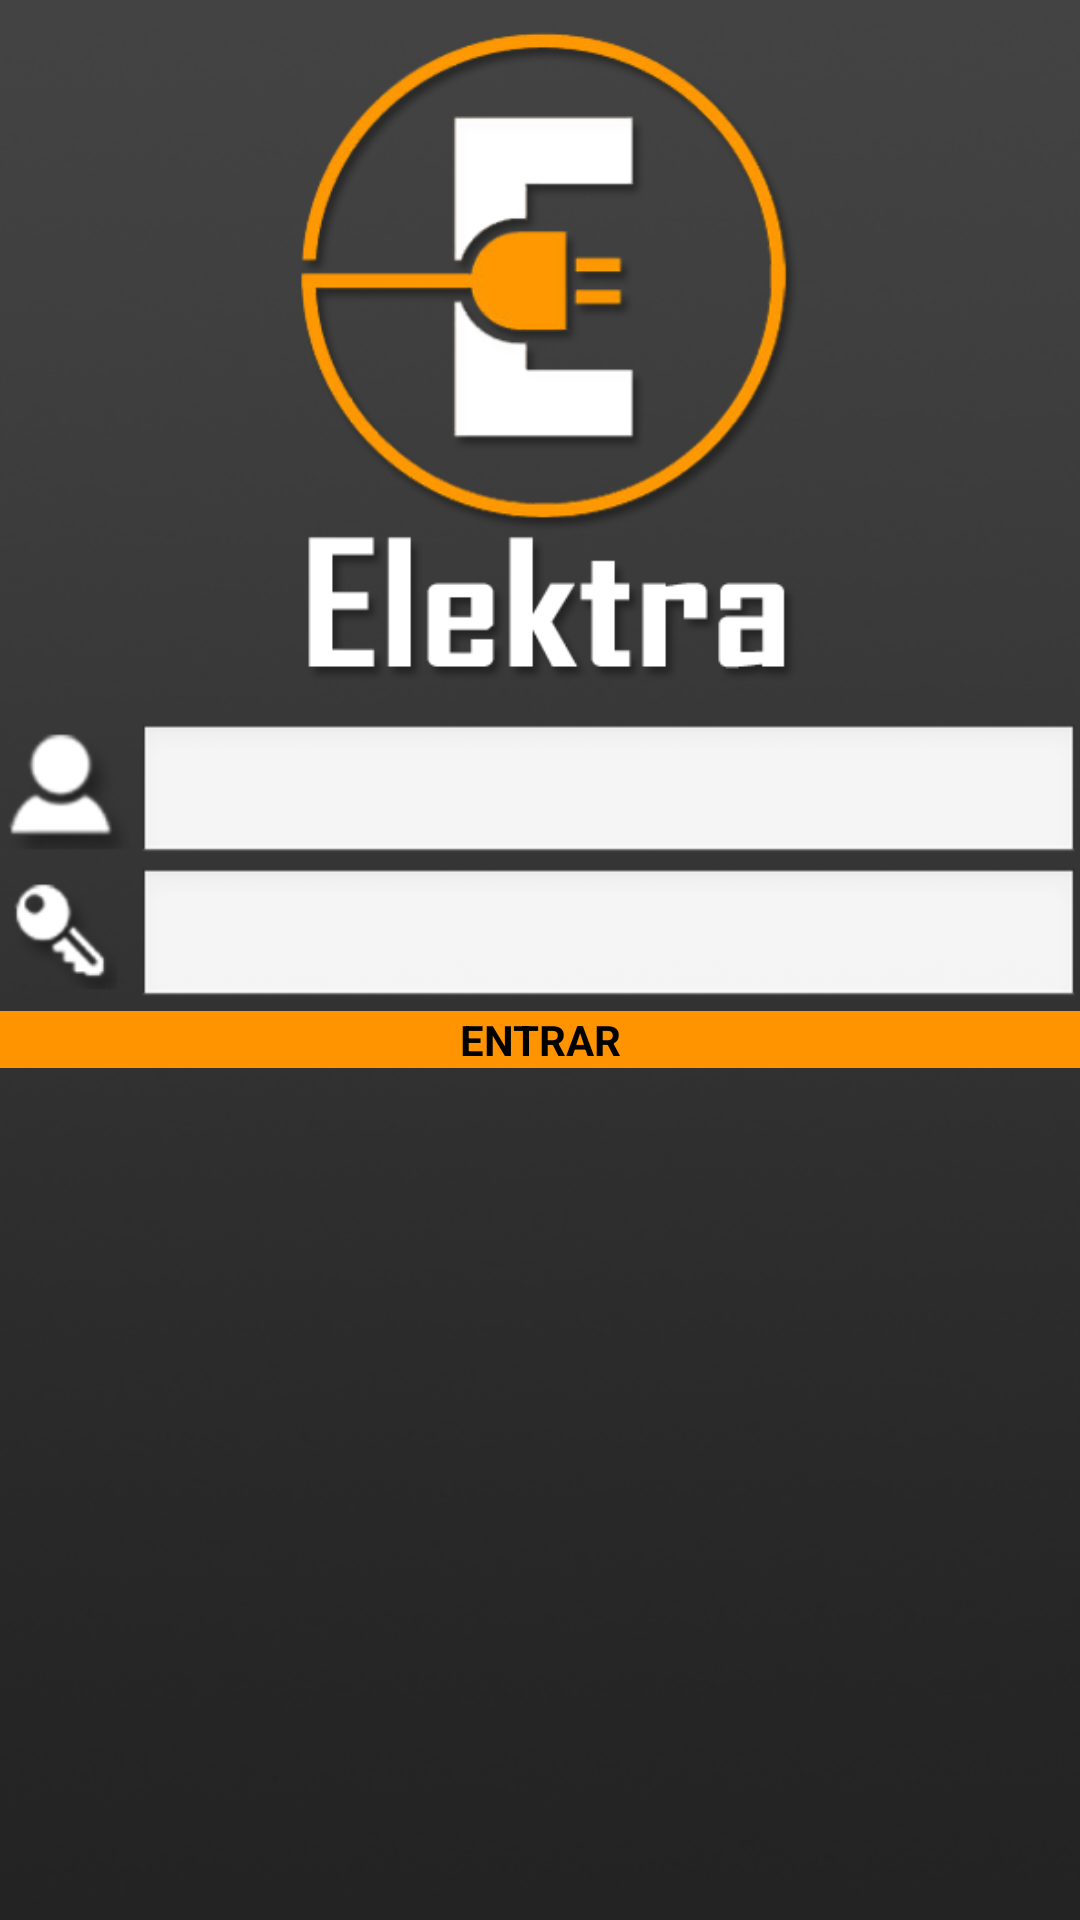

Icons on this 1080w x 1920h Android screen, each with the point to tap as (x=x, y=y):
senha: (x=59, y=930)
usuario: (x=60, y=784)
